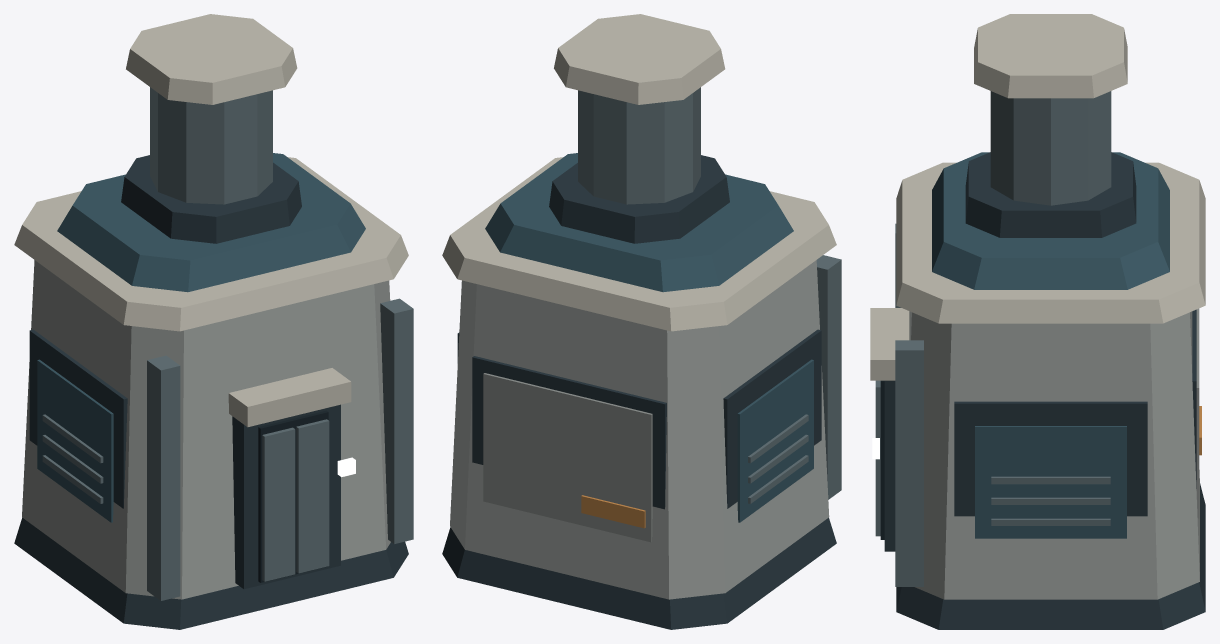
File: hero_forge_t2.glb
3 renders of one model, left to right at view 1: azimuth 30°, elevation 25°; view 2: azimuth 150°, elevation 25°; view 3: azimuth 270°, elevation 25°, orthographic. The views are drawn at different scales.
Parts seen in each view (by area): view 1: body; view 2: body; view 3: body.
Part boxes in pixels (bbox=[...]): body: bbox=[14, 14, 413, 629]; body: bbox=[442, 14, 841, 629]; body: bbox=[870, 14, 1205, 629].
Size of the model in its own units: 1.76 by 2.95 by 1.75.
